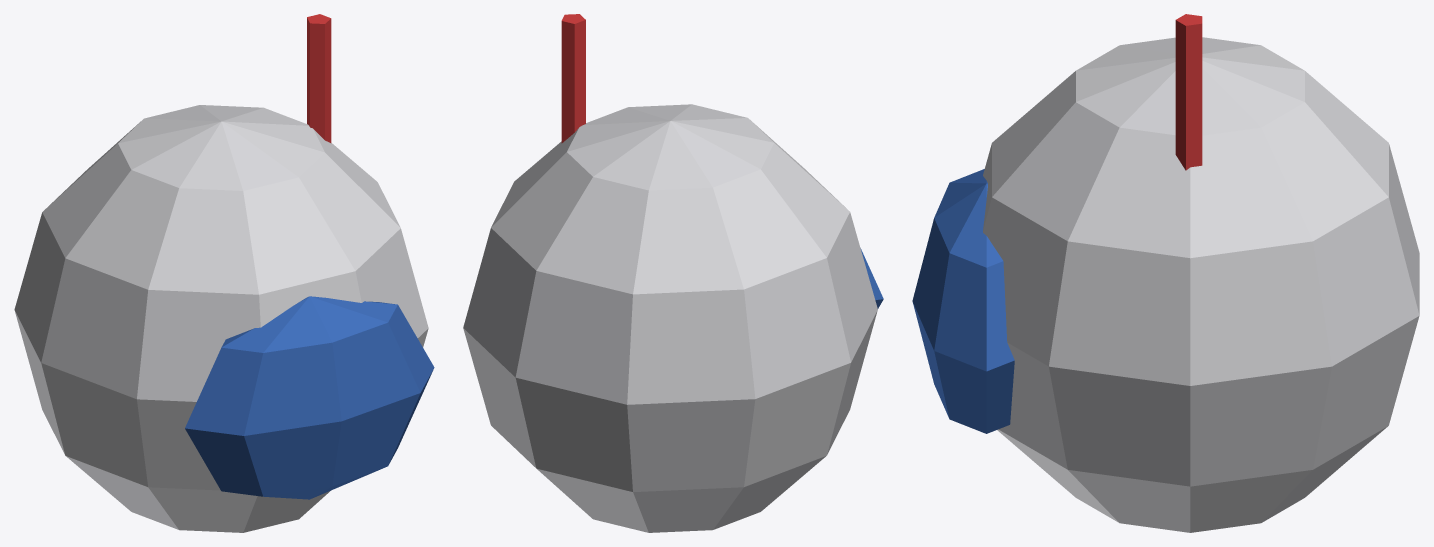
Rendered from captain_helmet.glb.
The picture shows the model from 3 angles, left to right: view 1: azimuth 30°, elevation 25°; view 2: azimuth 150°, elevation 25°; view 3: azimuth 270°, elevation 25°; orthographic projection. The views are drawn at different scales.
Parts seen in each view (by area): view 1: bubble_helmet_white, visor_helmet_visor, antenna_helmet_antenna; view 2: bubble_helmet_white, antenna_helmet_antenna; view 3: bubble_helmet_white, visor_helmet_visor, antenna_helmet_antenna.
Part boxes in pixels (bbox=[...]): bubble_helmet_white: bbox=[14, 105, 428, 532]; visor_helmet_visor: bbox=[185, 296, 434, 499]; antenna_helmet_antenna: bbox=[307, 14, 331, 142]; bubble_helmet_white: bbox=[463, 104, 877, 532]; antenna_helmet_antenna: bbox=[561, 14, 585, 143]; bubble_helmet_white: bbox=[983, 37, 1419, 532]; visor_helmet_visor: bbox=[912, 169, 1014, 433]; antenna_helmet_antenna: bbox=[1175, 14, 1202, 170].
Bounding box in the file's own units: 0.13 × 0.163 × 0.1368.
